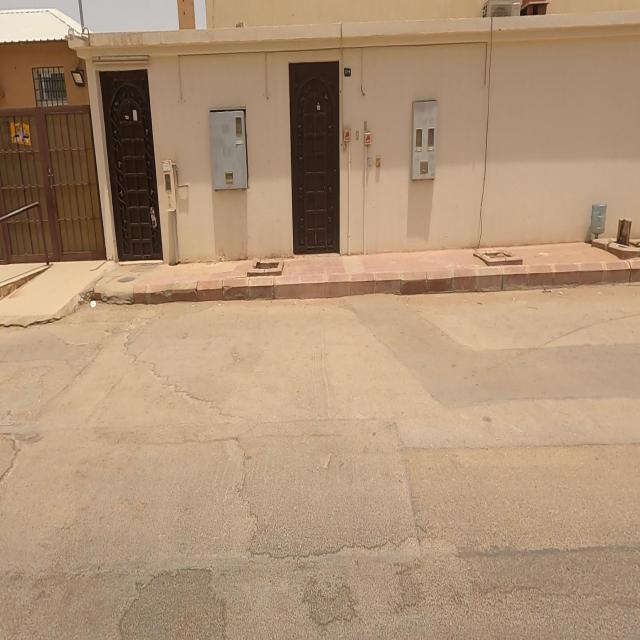debris: (68, 275, 111, 328)
